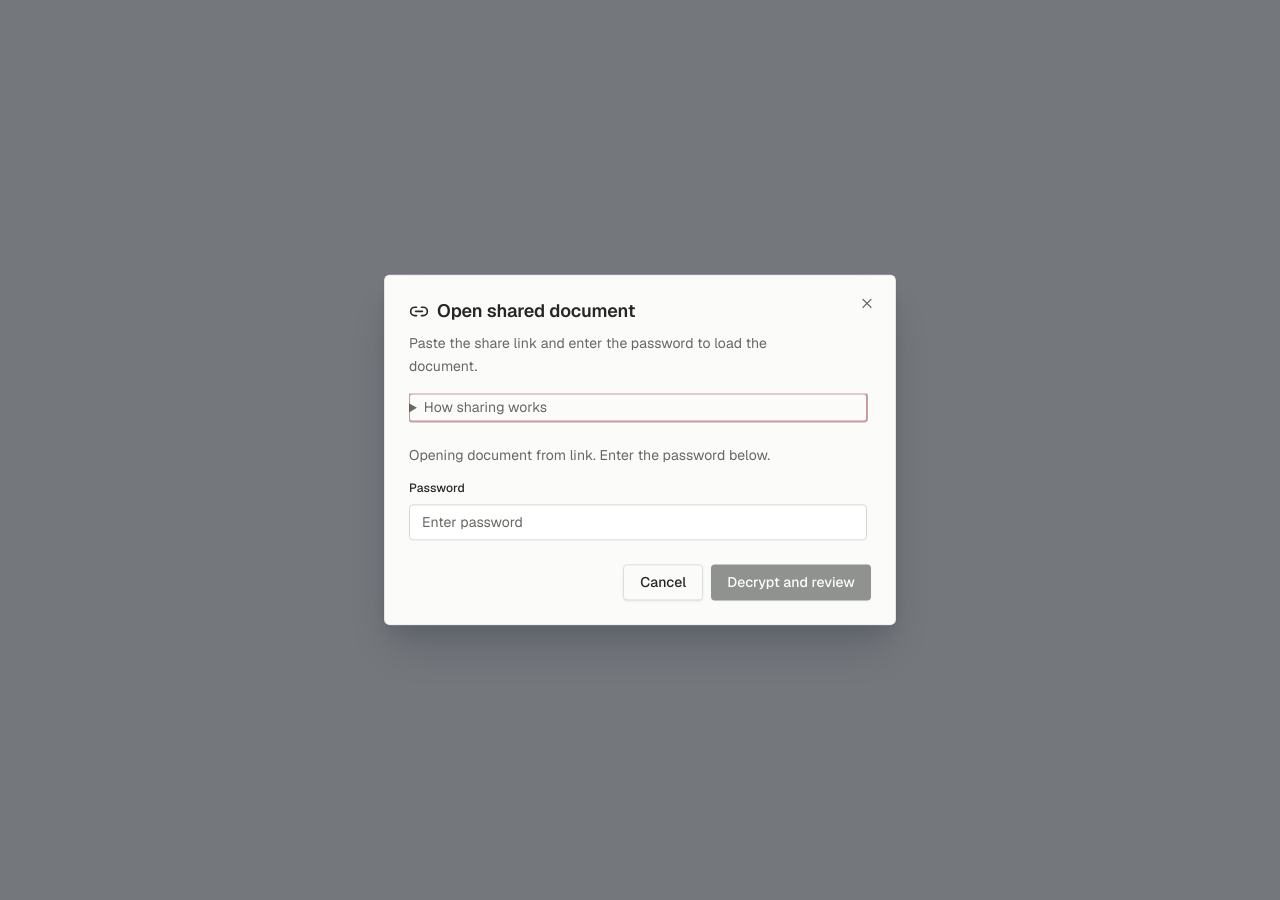
Test: ShareModal — import mode › surfaces a friendly error on a bad password instead of throwing
Type "wrongpass" into the password field labelled "Password" at [638, 523], box [409,505,867,541]
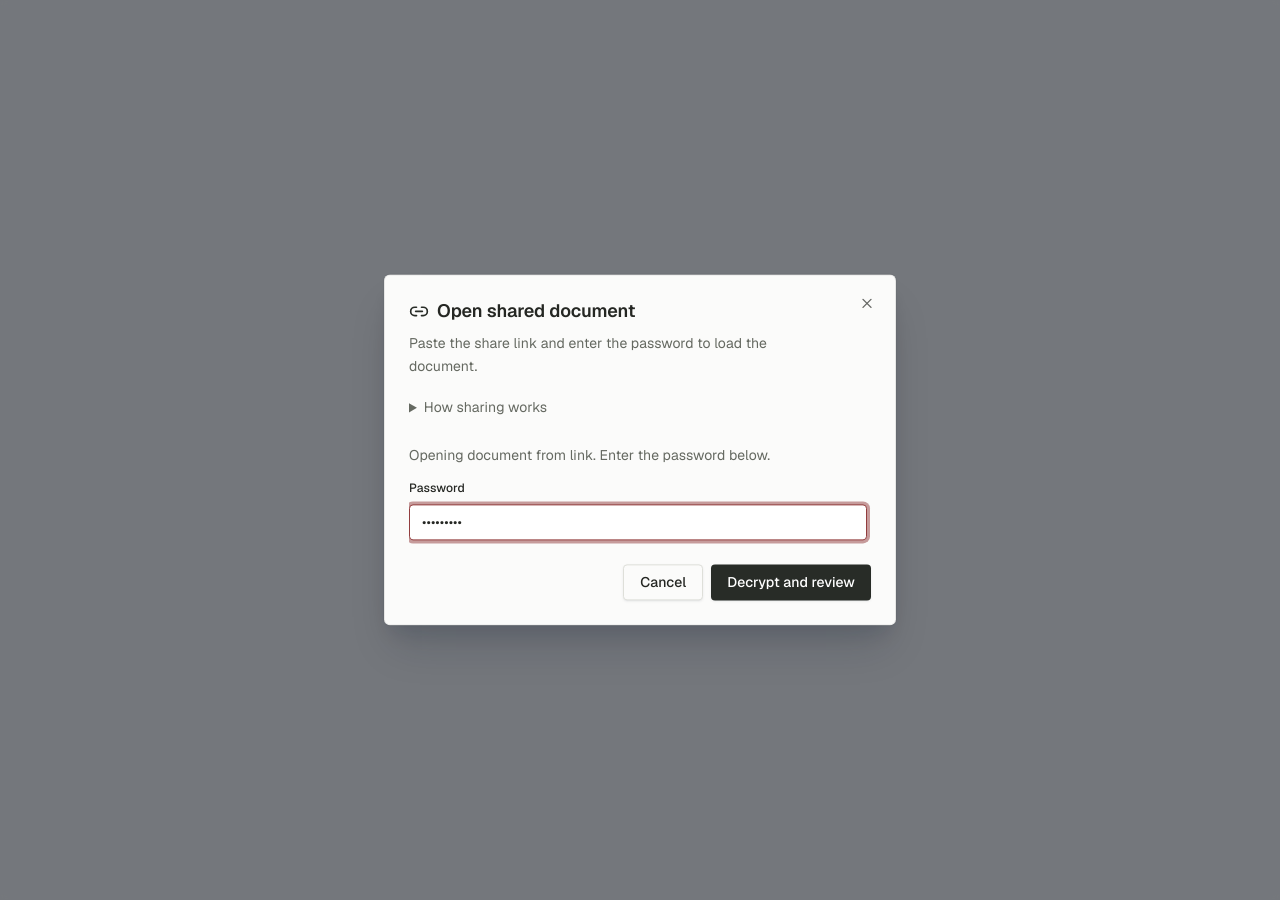
Click the button "Decrypt and review" at [791, 583], box [711,565,871,601]
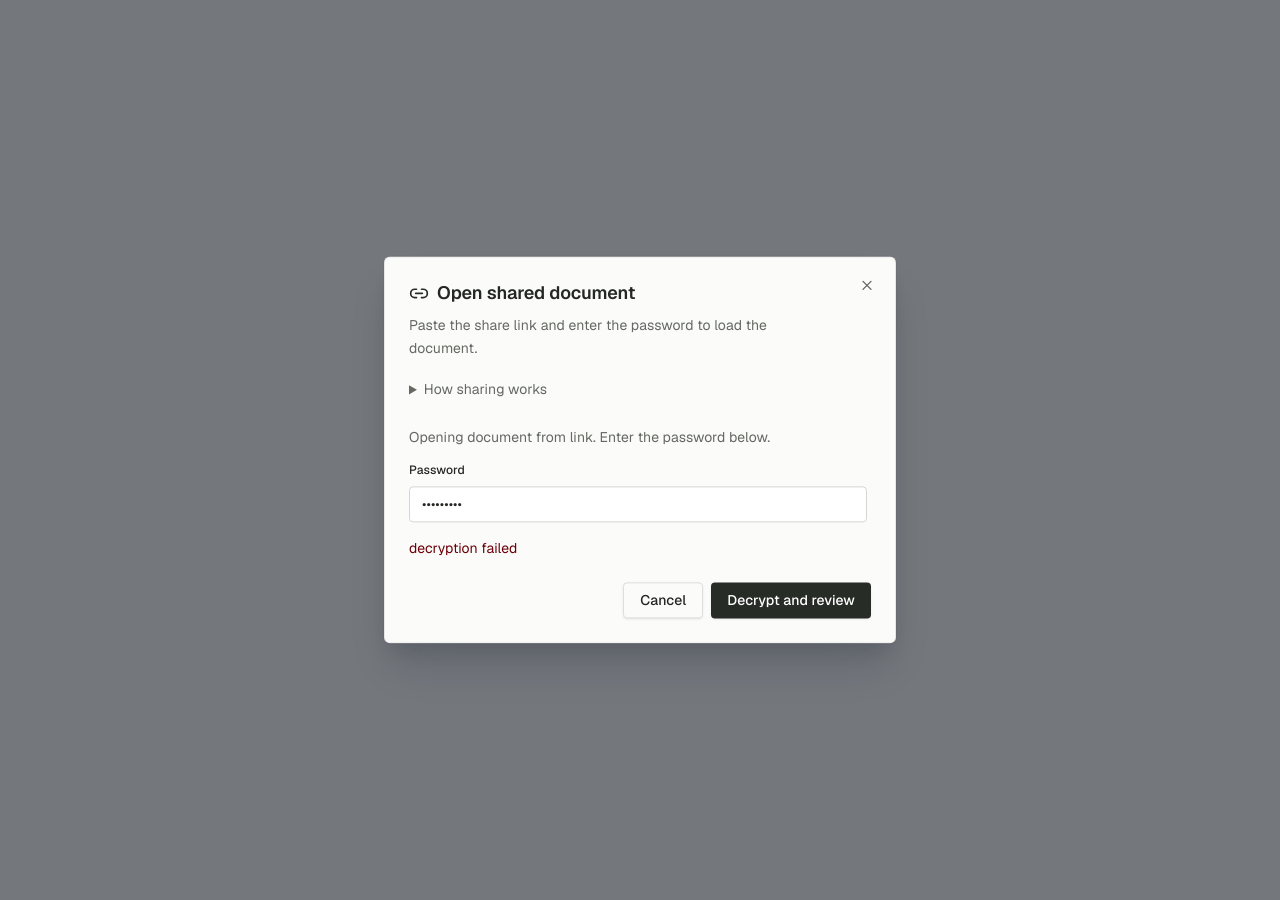
expect the text "decryption failed" is shown: met, box [409,540,517,558]
